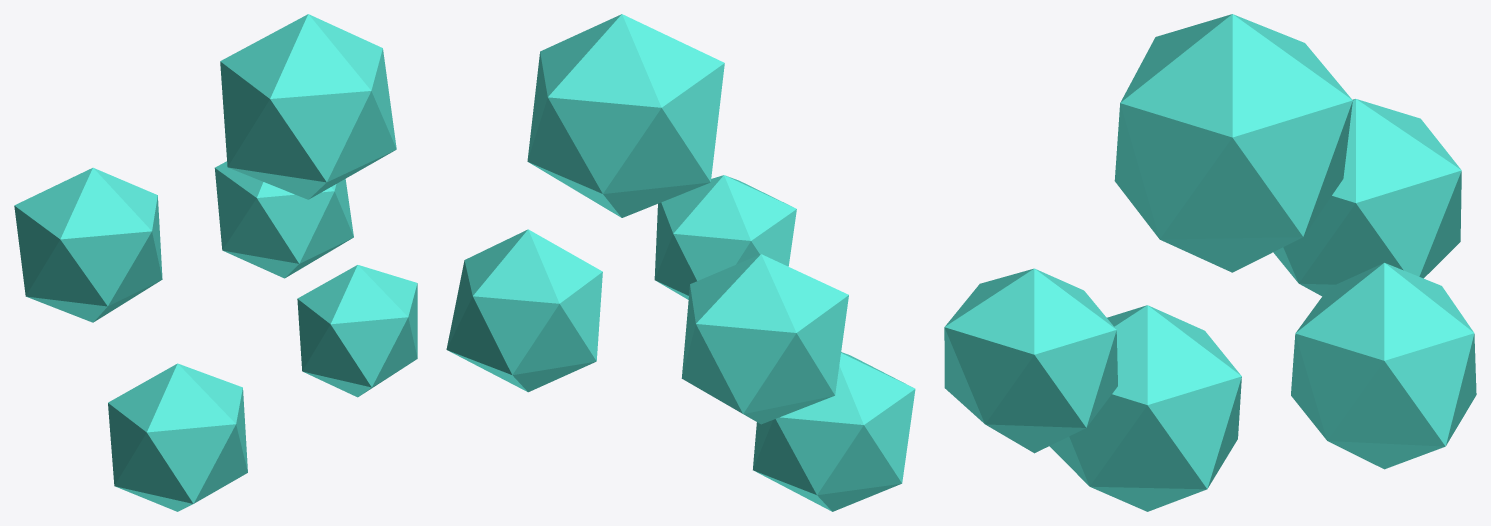
The model's file is plant_bulb_glow_cyan_glow.fbx.
3 renders of one model, left to right at view 1: azimuth 30°, elevation 25°; view 2: azimuth 150°, elevation 25°; view 3: azimuth 270°, elevation 25°, orthographic. The views are drawn at different scales.
Parts seen in each view (by area): view 1: plant_bulb_glow_cyan_glow; view 2: plant_bulb_glow_cyan_glow; view 3: plant_bulb_glow_cyan_glow.
Part boxes in pixels (x1,y1,x2,y2): plant_bulb_glow_cyan_glow: [14, 14, 417, 511]; plant_bulb_glow_cyan_glow: [446, 14, 915, 511]; plant_bulb_glow_cyan_glow: [944, 14, 1476, 511].
Bounding box in the file's own units: 398 × 507 × 403.
1 material, 1 textured.
